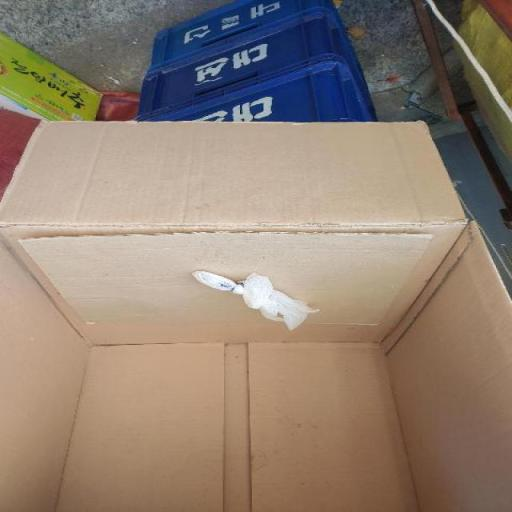plastic-bag: (192, 262, 314, 329)
